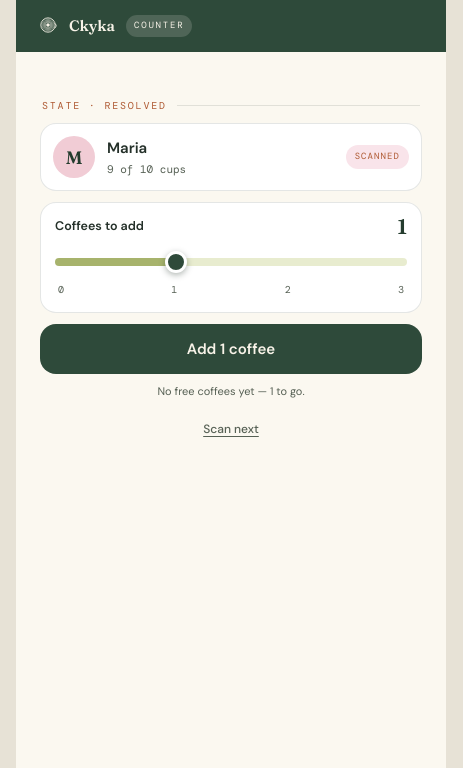
Staff Scan › previews the reward a staged commit will earn
This screenshot has width=463, height=768.
Click the button with class "btn-forest": (231, 349) x1=40 y1=324 x2=422 y2=374
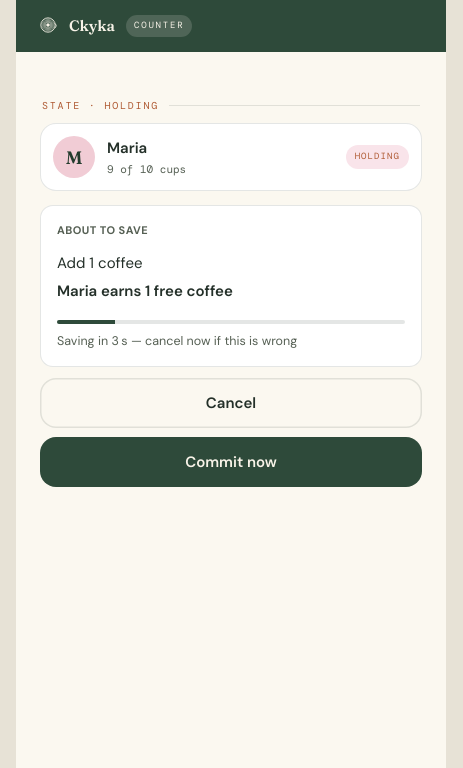
Expected: the list item with class "staff-scan__hold-earn" shows "earns 1 free coffee", x1=57 y1=281 x2=233 y2=301
